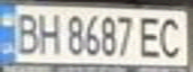6: (81, 11, 103, 57)
7: (115, 12, 139, 59)
8: (97, 11, 118, 57), (63, 10, 84, 56)
B: (9, 9, 42, 55)
C: (154, 13, 187, 60)
E: (136, 14, 163, 58)
H: (33, 9, 63, 55)
